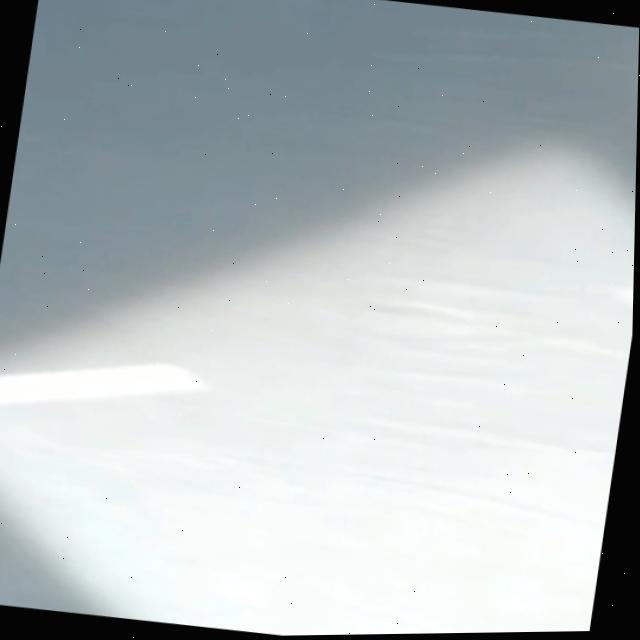center: (0, 364, 206, 403), (624, 287, 633, 304)
